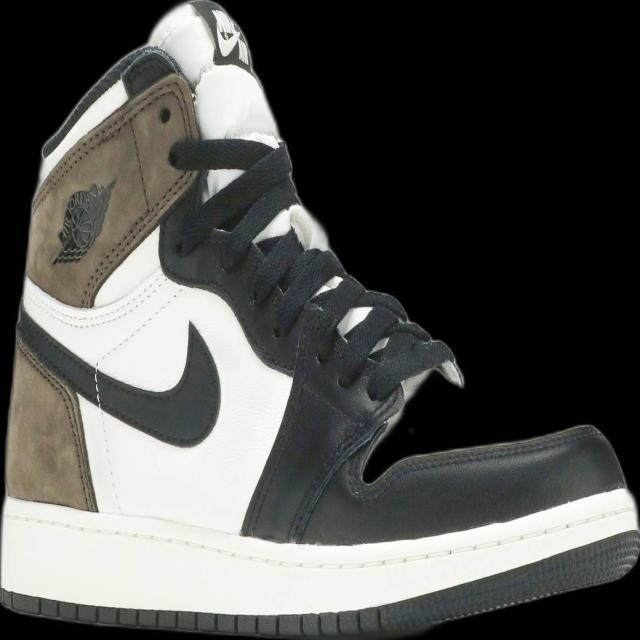J1_InsoleChar: (0, 0, 639, 639)
J1_ShoeLogo: (50, 177, 116, 265), (185, 0, 254, 72)
J1_StitchPattern: (0, 486, 638, 635), (165, 132, 464, 397), (13, 270, 217, 511), (28, 69, 204, 307), (167, 134, 343, 331), (305, 280, 463, 397), (1, 590, 378, 638), (13, 332, 99, 512), (246, 225, 345, 331), (89, 273, 185, 375)
